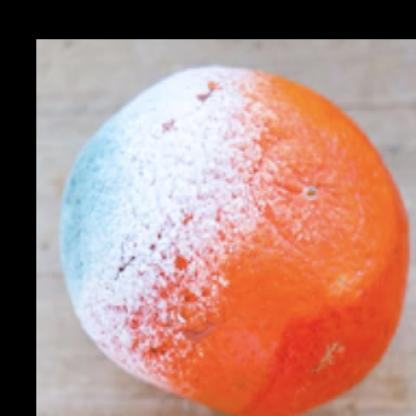rotten: (59, 66, 409, 416)
